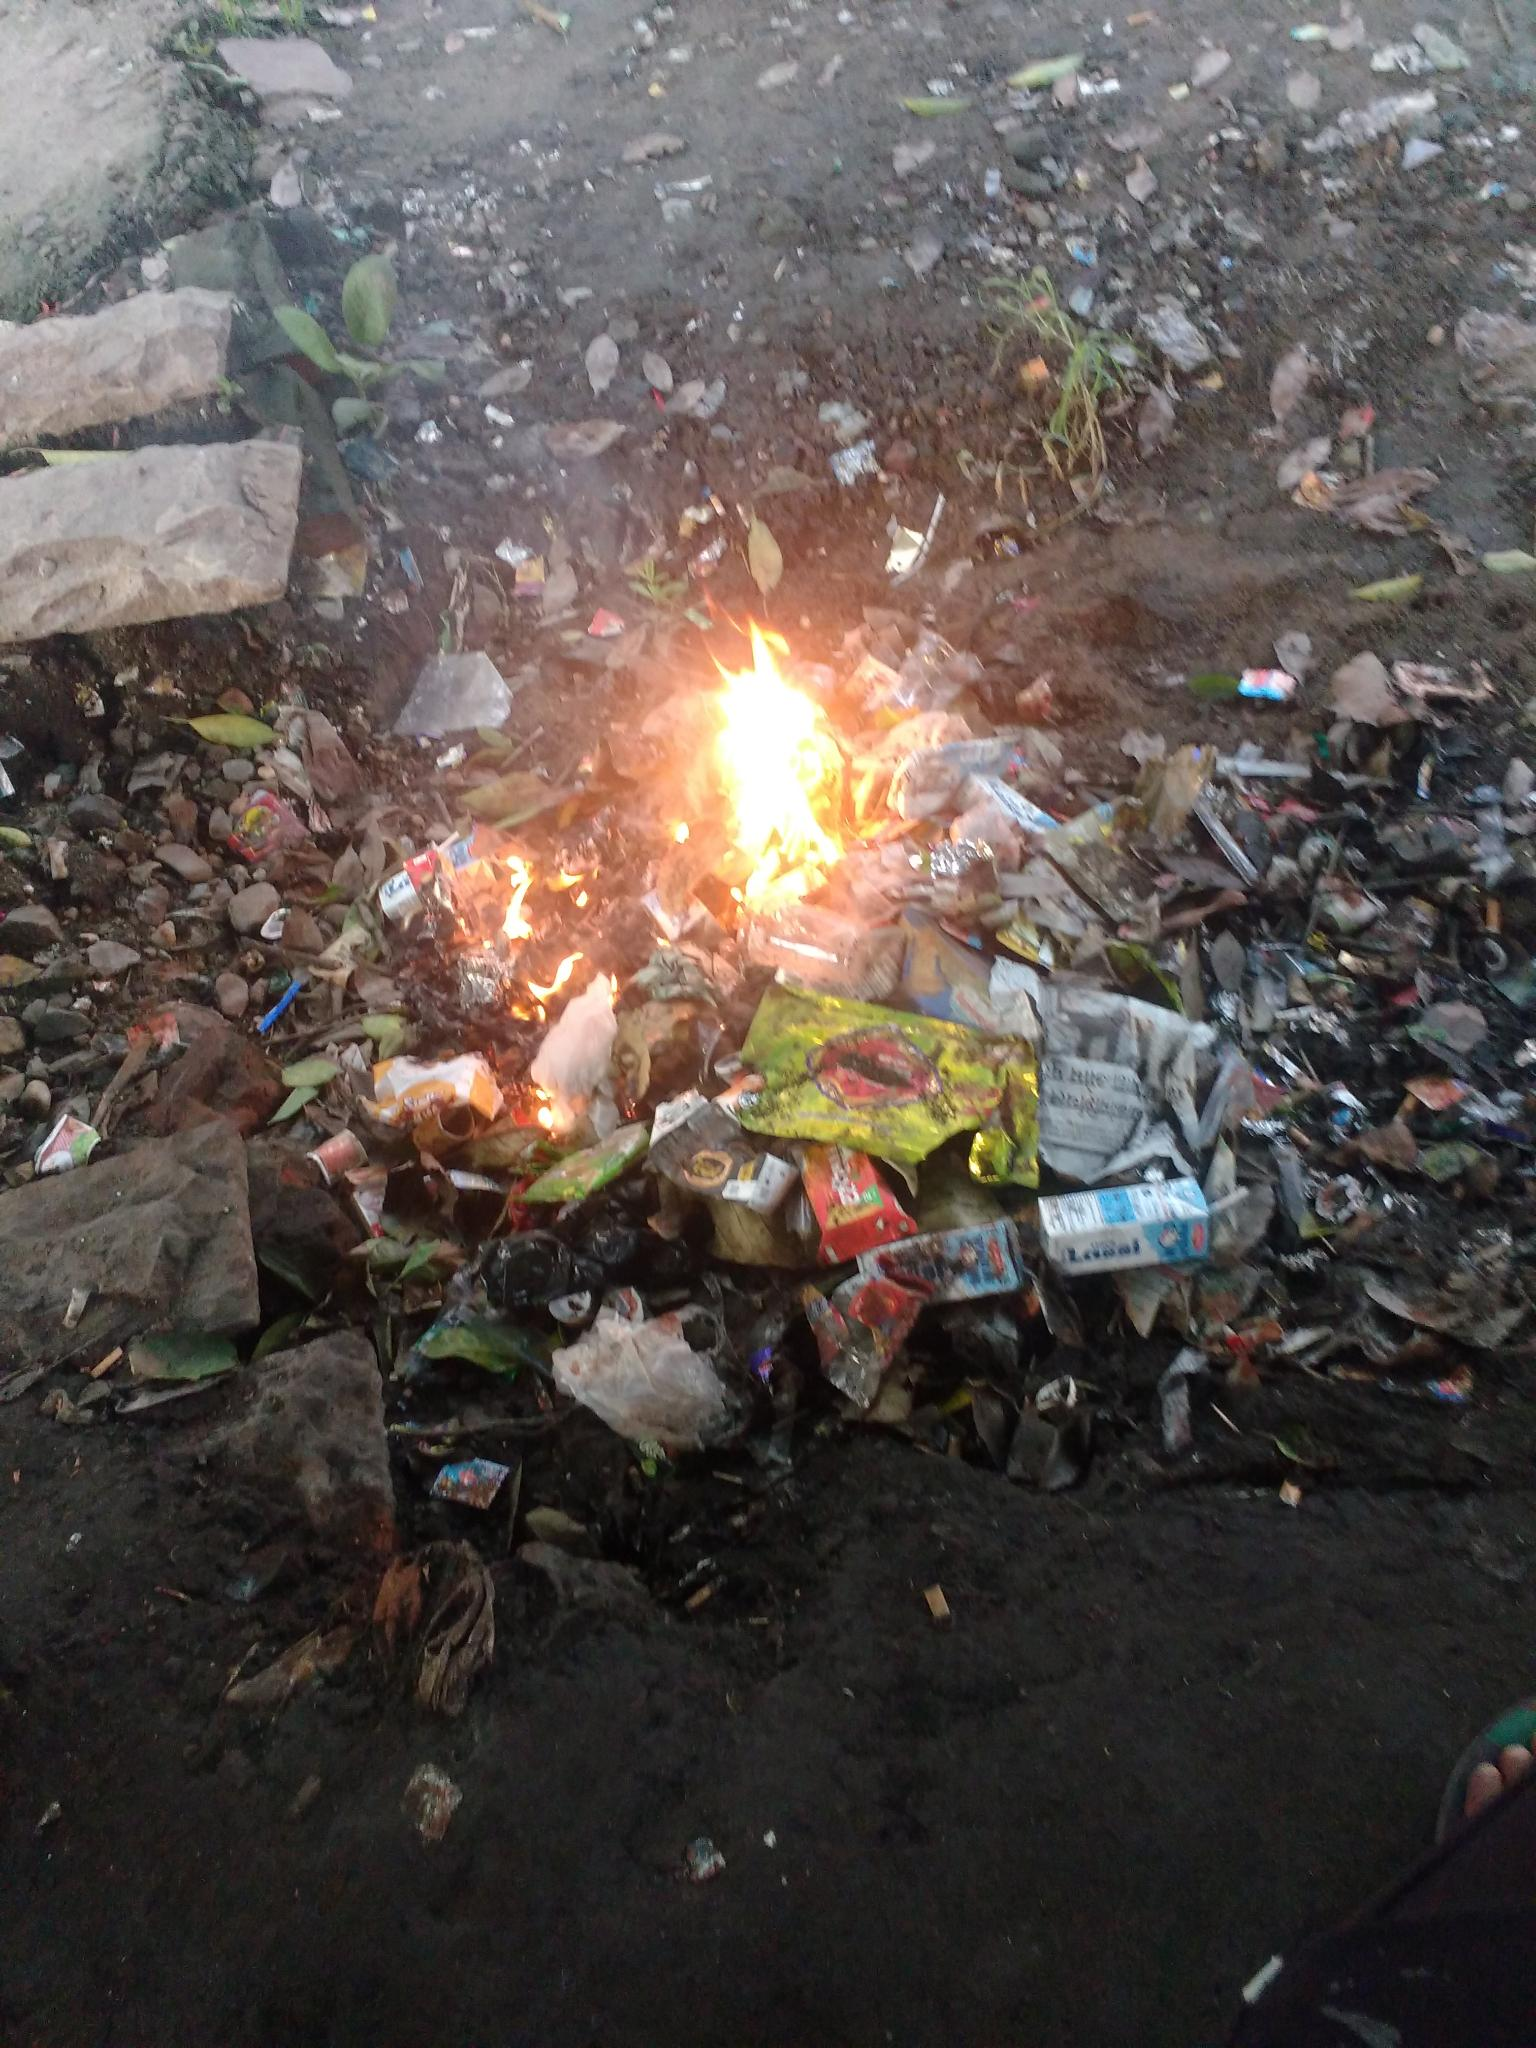Fire: (674, 606, 928, 922)
